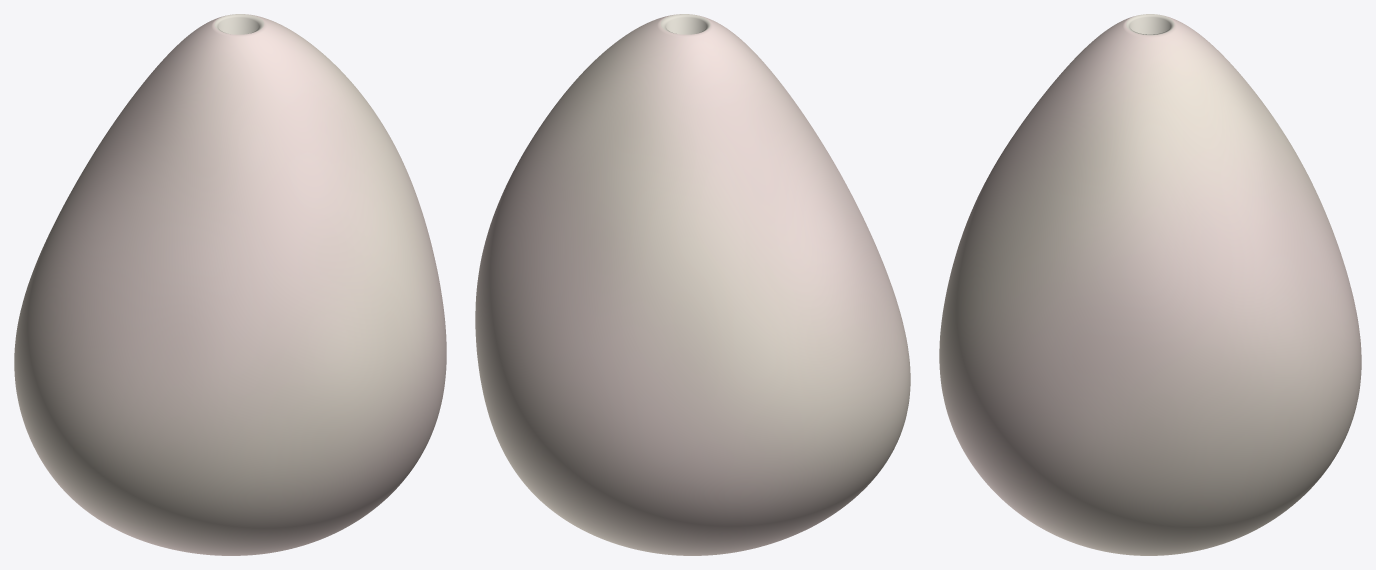
File: pearl-ref-12.glb
The picture shows the model from 3 angles, left to right: view 1: azimuth 30°, elevation 25°; view 2: azimuth 150°, elevation 25°; view 3: azimuth 270°, elevation 25°; orthographic projection.
Parts seen in each view (by area): view 1: pearl-ref-12; view 2: pearl-ref-12; view 3: pearl-ref-12.
Part boxes in pixels (x1,y1,x2,y2): pearl-ref-12: (14, 14, 446, 555); pearl-ref-12: (475, 14, 910, 555); pearl-ref-12: (939, 14, 1361, 555).
Size of the model in its own units: 0.00852 by 0.0109 by 0.00821.
2 materials, 1 textured.
